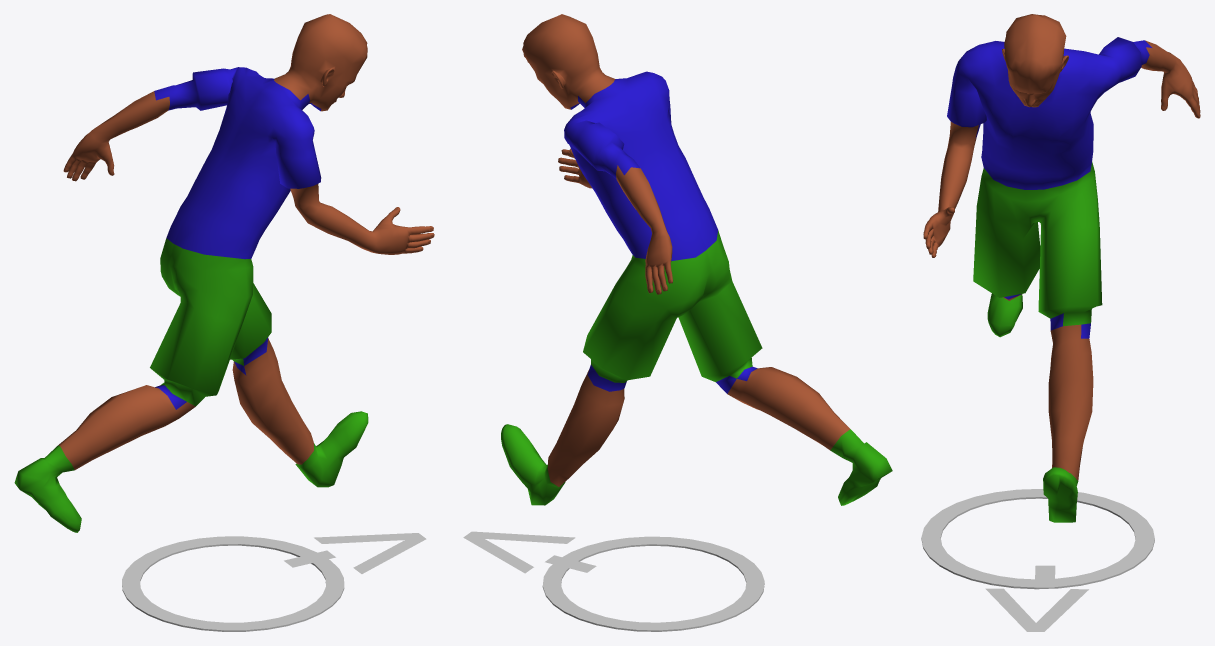
Rendered from playerAI_000008.obj.
3 renders of one model, left to right at view 1: azimuth 30°, elevation 25°; view 2: azimuth 150°, elevation 25°; view 3: azimuth 270°, elevation 25°, orthographic. The views are drawn at different scales.
Parts seen in each view (by area): view 1: soccerplayer.003_mesh.002, Circle.001, Text_Mesh; view 2: soccerplayer.003_mesh.002, Circle.001, Text_Mesh; view 3: soccerplayer.003_mesh.002, Circle.001, Text_Mesh.
Boxes of the visible parts, x1,y1,x2,y2 form: soccerplayer.003_mesh.002: (14, 14, 434, 532); Circle.001: (122, 536, 344, 631); Text_Mesh: (284, 533, 426, 573); soccerplayer.003_mesh.002: (501, 14, 892, 505); Circle.001: (542, 536, 764, 631); Text_Mesh: (463, 531, 596, 573); soccerplayer.003_mesh.002: (923, 14, 1200, 522); Circle.001: (921, 489, 1154, 589); Text_Mesh: (985, 565, 1088, 631).
Bounding box in the file's own units: 2.33 × 2.94 × 1.3.
